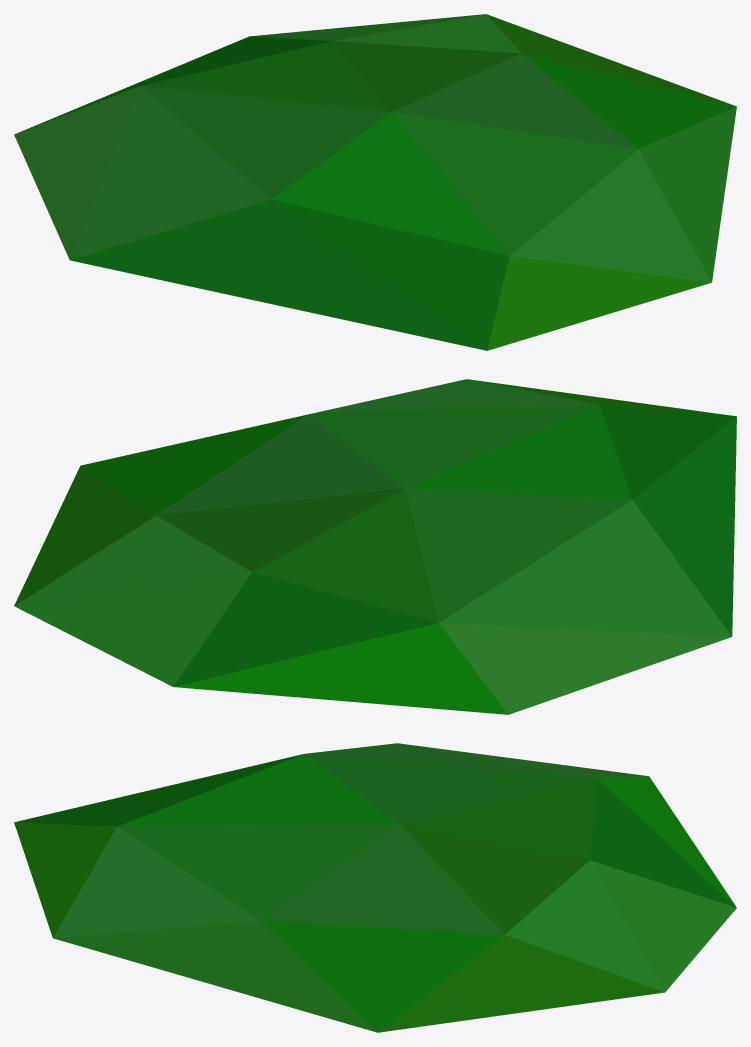
Rendered from GreenPatch.glb.
The picture shows the model from 3 angles, top to bottom: view 1: azimuth 30°, elevation 25°; view 2: azimuth 150°, elevation 25°; view 3: azimuth 270°, elevation 25°; orthographic projection. The views are drawn at different scales.
Visible parts, largest first — view 1: GreenPatch; view 2: GreenPatch; view 3: GreenPatch.
Boxes of the visible parts, x1=… form: GreenPatch: x1=14, y1=14, x2=736, y2=350; GreenPatch: x1=14, y1=379, x2=736, y2=714; GreenPatch: x1=14, y1=743, x2=736, y2=1032.
Size of the model in its own units: 0.6123 by 0.0637 by 0.643.
